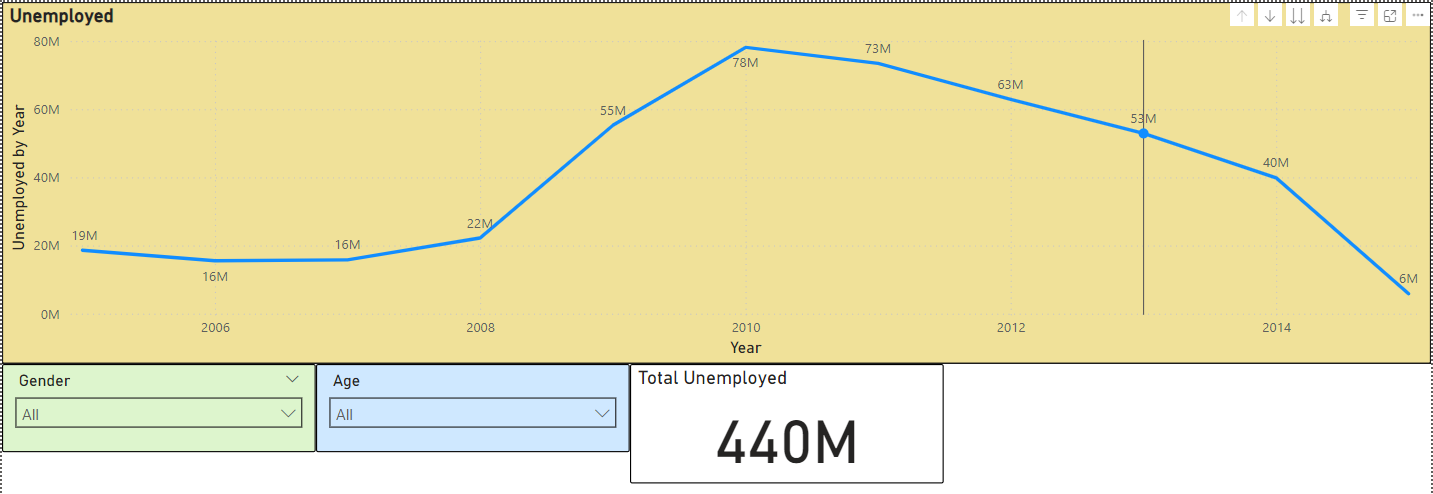

What the dashboard file says about the page in this screenshot:
{"tool":"powerbi","page":{"name":"Page 1","canvas":[1280,720],"ordinal":0},"visuals":[{"type":"lineChart","title":"Unemployed","fields":{"Category":["Sheet1.Period.Variation.Date Hierarchy.Year","Sheet1.Period.Variation.Date Hierarchy.Quarter","Sheet1.Period.Variation.Date Hierarchy.Month","Sheet1.Period.Variation.Date Hierarchy.Day"],"Y":["Sum(Sheet1.Unemployed)"]},"box":[0,0,1280,324.2],"z":0},{"type":"slicer","fields":{"Values":["Sheet1.Gender"]},"box":[0,324.2,281.1,79.3],"z":1000},{"type":"slicer","fields":{"Values":["Sheet1.Age"]},"box":[281.1,324.2,281.1,79.3],"z":2000},{"type":"card","title":"Total Unemployed","fields":{"Values":["Sum(Sheet1.Unemployed)"]},"box":[562.1,324.2,281.1,106.7],"z":3000}]}

Visuals, with their boxes on the page's 1280x720 design canvas (x1, y1, x2, y2). These are canvas units, not pixel positions in the 1433x494 screenshot, which may show the page scaled, cropped or inside an application window:
"Unemployed" lineChart: box=[0, 0, 1280, 324]
slicer - Sheet1.Gender: box=[0, 324, 281, 404]
slicer - Sheet1.Age: box=[281, 324, 562, 404]
"Total Unemployed" card: box=[562, 324, 843, 431]
